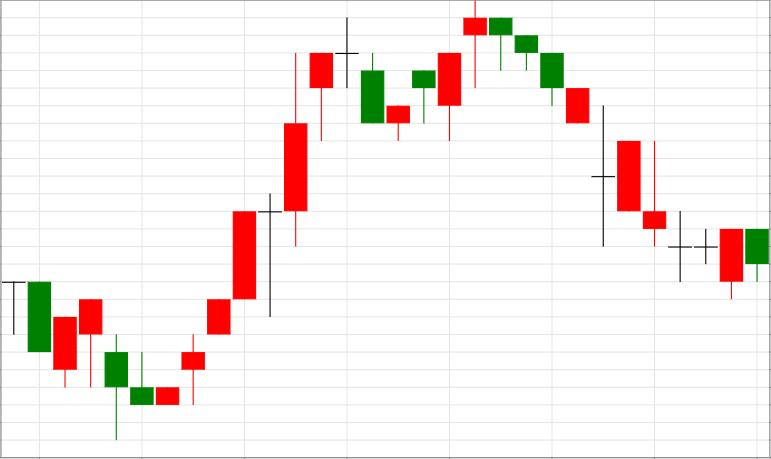evening_star_fall: (156, 16, 384, 405)
hanging_man_fall: (156, 52, 334, 405)
